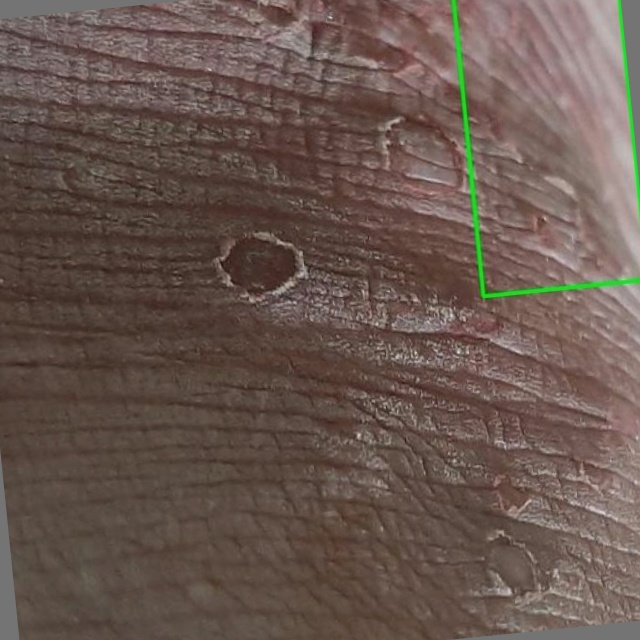Contact Dermatitis: (453, 0, 639, 296)
